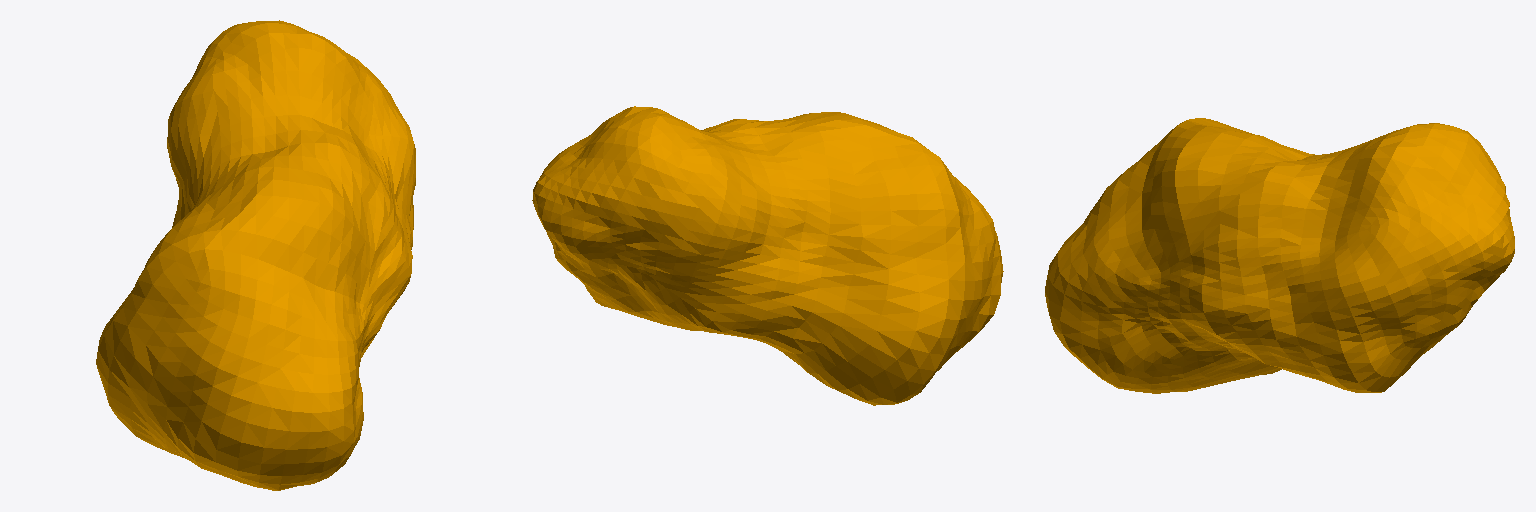
The robot description file, URDF, robot "rock":
<?xml version="1.0" ?>
<robot name="rock">
  <link name="rock">
    <inertial>
      <mass value="0.25"/>
      <origin rpy="0 0 0" xyz="0 0 0"/>
      <inertia ixx="0.00025" ixy="0" ixz="0" iyy="0.00025" iyz="0" izz="0.00025"/>
    </inertial>
    <collision name="rock_collision">
      <origin rpy="0 0 0" xyz="0 0 0"/>
      <geometry>
        <mesh filename="package://rocks/visual/6.dae" scale="1 1 1"/>
      </geometry>
    </collision>
    <visual name="rock_visual">
      <origin rpy="0 0 0" xyz="0 0 0"/>
      <geometry>
        <mesh filename="package://rocks/visual/6.dae" scale="1 1 1"/>
      </geometry>
    </visual>
  </link>
</robot>

--- Facts derived from the render (not from the file) ---
Views: 3 orthographic renders of the robot side by side, from view 1: azimuth 30°, elevation 25°; view 2: azimuth 150°, elevation 25°; view 3: azimuth 270°, elevation 25°.
Robot: rock — 1 links, 0 joints (none); root link rock; default pose: every joint at zero.
Visible links, largest first — view 1: rock; view 2: rock; view 3: rock.
Boxes of the visible links, left/top/right/bottom form: rock: left=96, top=20, right=415, bottom=490; rock: left=532, top=106, right=1003, bottom=405; rock: left=1045, top=118, right=1514, bottom=393.
Bounding box of the posed robot: 0.0508 × 0.0581 × 0.044 m (x, y, z).
1 mesh visuals loaded from 1 distinct referenced files (1 Collada DAE).